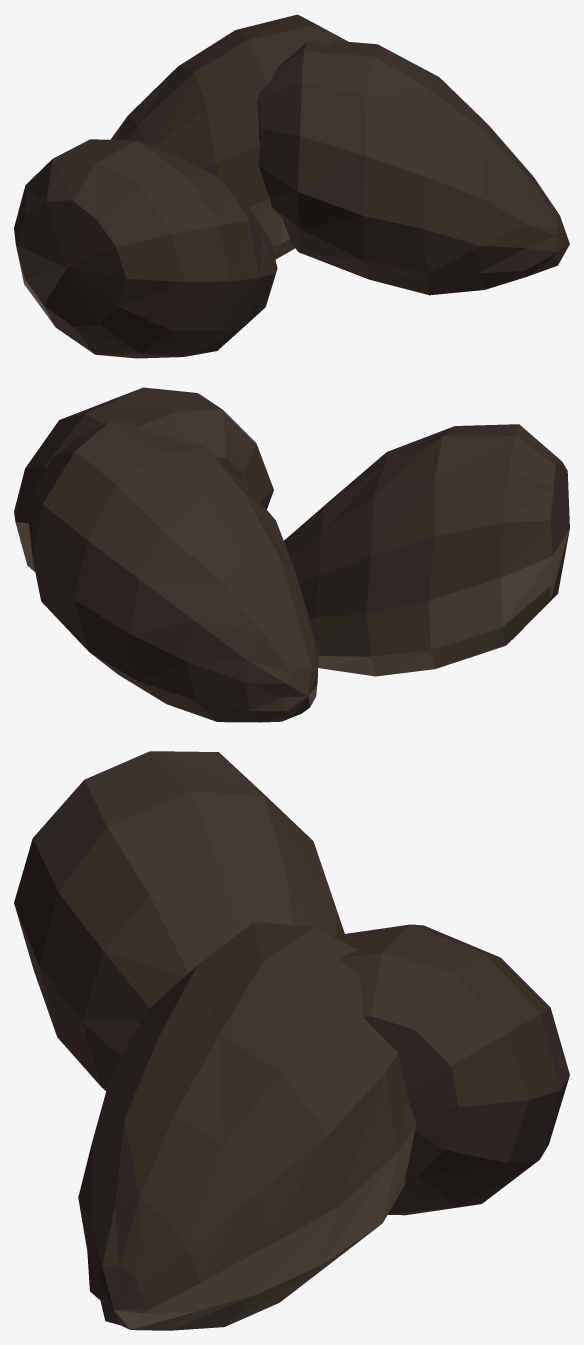
The model's file is blackgarlic.glb.
3 renders of one model, top to bottom at view 1: azimuth 30°, elevation 25°; view 2: azimuth 150°, elevation 25°; view 3: azimuth 270°, elevation 25°, orthographic. The views are drawn at different scales.
Size of the model in its own units: 2.34 by 0.9862 by 1.58.
